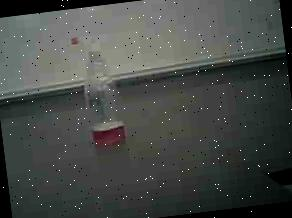hazard: (61, 24, 138, 157)
